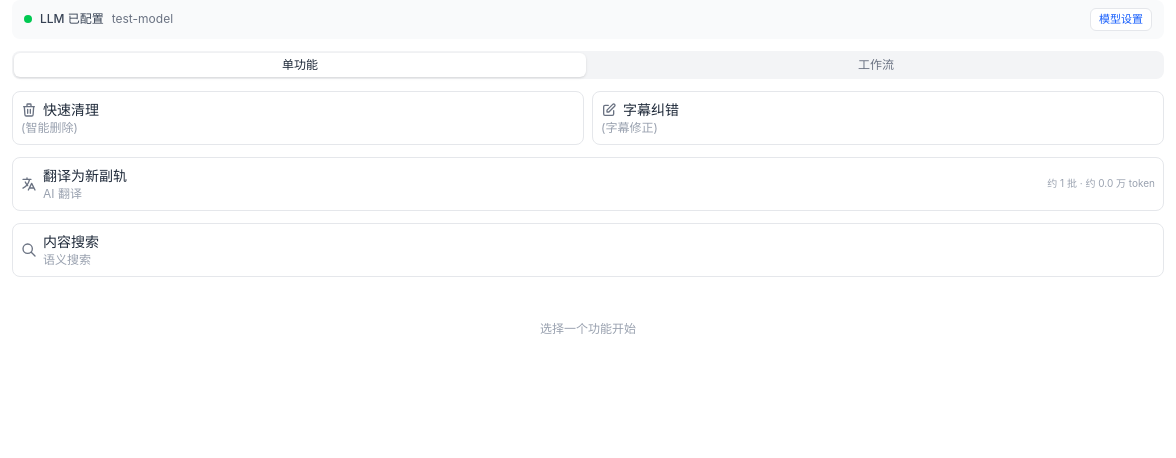
Test: AIAssistantPanel -- workflow mode › switches to workflow mode on tab click
Click the button "工作流": (876, 64) [590, 52, 1162, 76]
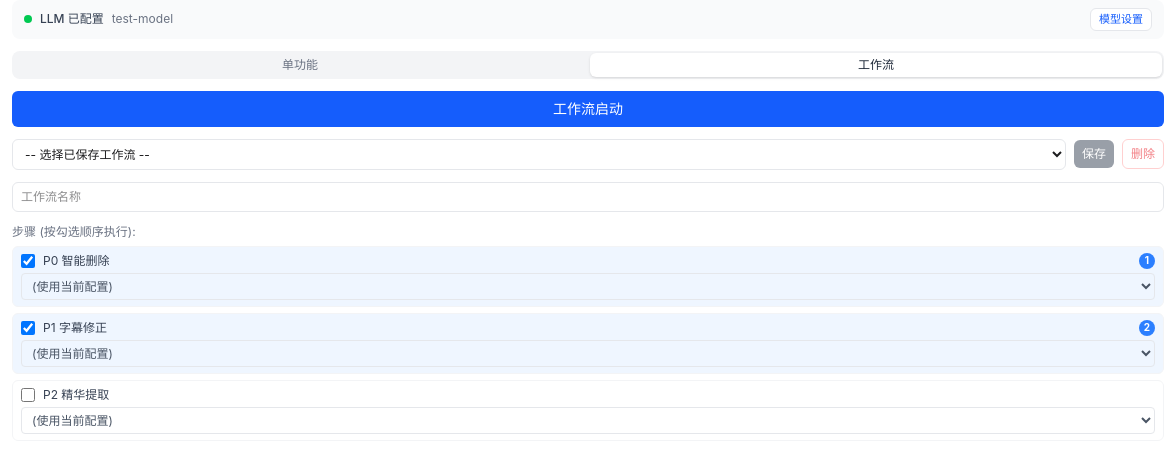
Check: the text "步骤 (按勾选顺序执行)" is shown, box [12, 224, 136, 238]
